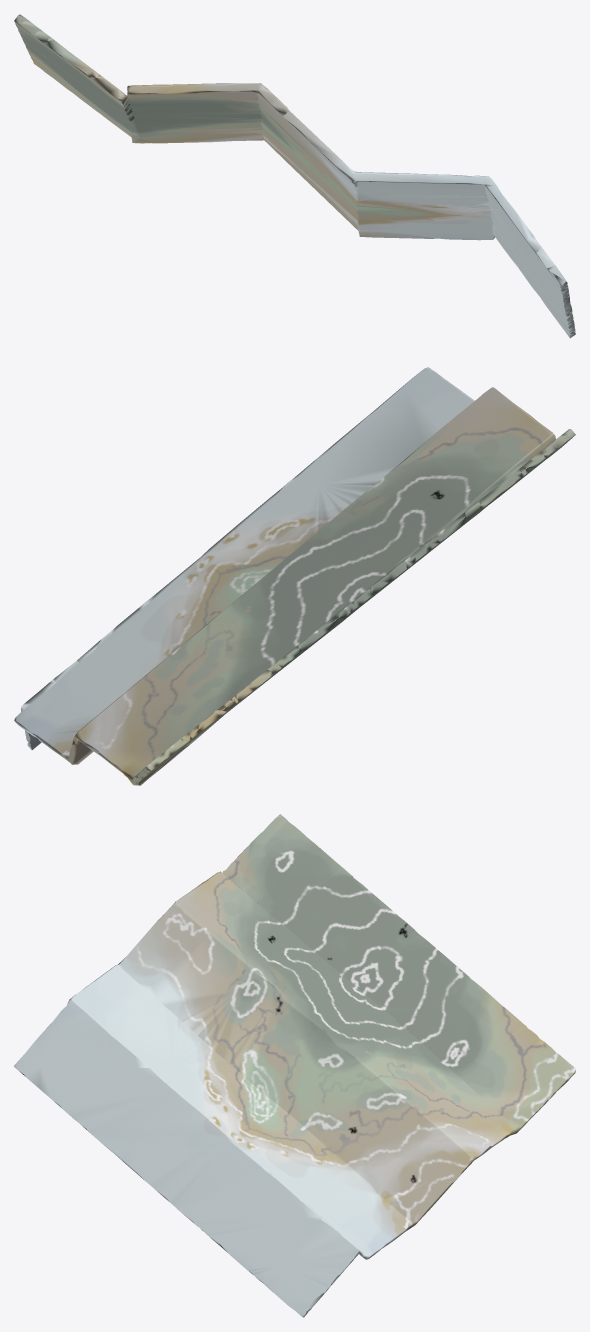
File: Forest Map_LOD1.fbx
3 views of the same model, one above another, from view 1: azimuth 30°, elevation 25°; view 2: azimuth 150°, elevation 25°; view 3: azimuth 270°, elevation 25° (orthographic). The views are drawn at different scales.
Parts seen in each view (by area): view 1: Layer_5; view 2: Layer_5; view 3: Layer_5.
Boxes of the visible parts, <box> form: Layer_5: <box>14,14,575,338</box>; Layer_5: <box>14,367,575,785</box>; Layer_5: <box>14,814,575,1317</box>.
Bounding box in the file's own units: 1.91 × 2.4 × 1.5.
1 material, 1 textured.
